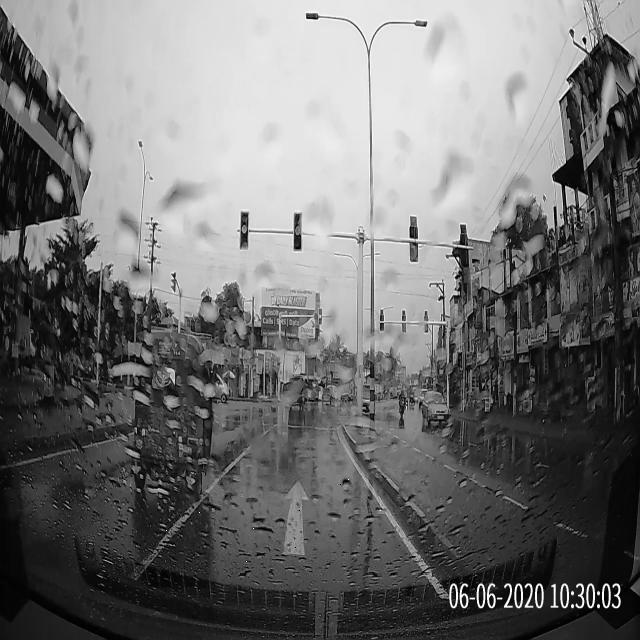forward: (158, 476, 431, 574)
